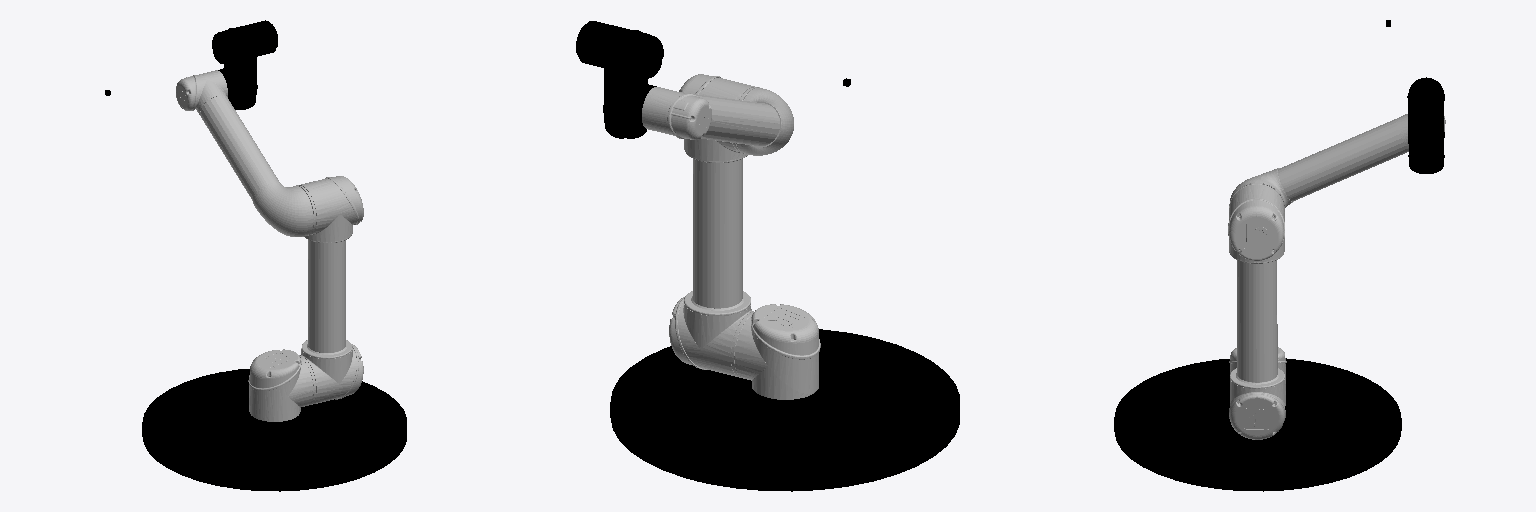
URDF robot description (ur5v9):
<?xml version="1.0" encoding="utf-8"?>
<!-- This URDF was automatically created by SolidWorks to URDF Exporter! Originally created by [author] ([email redacted]) 
     Commit Version: 1.6.0-4-g7f85cfe  Build Version: 1.6.7995.38578
     For more information, please see http://wiki.ros.org/sw_urdf_exporter -->
<robot
  name="ur5v9">


  
  <link name="dummy" />
    <joint name="dummy_joint" type="fixed">
        <parent link="dummy" />
        <child link="base_link" />
        <origin rpy="0.0 0.0 0.0" xyz="0.0 0.0 0.0" />
    </joint>  
  
  
  <link
    name="base_link">
    <inertial>
      <origin
        xyz="-2.05969404822315E-05 -2.06280333782269E-05 0.0167711263216263"
        rpy="0 0 0" />
      <mass
        value="8.98661077324618" />
      <inertia
        ixx="0.192265704645512"
        ixy="1.73939932595085E-05"
        ixz="5.87215103310644E-06"
        iyy="0.192265730493601"
        iyz="5.86862240706204E-06"
        izz="0.382774608566063" />
    </inertial>
    <visual>
      <origin
        xyz="0 0 0"
        rpy="0 0 0" />
      <geometry>
        <mesh
          filename="package://ur5v9/meshes/base_link.STL" />
      </geometry>
      <material
        name="">
        <color
          rgba="0 0 0 1" />
      </material>
    </visual>
    <collision>
      <origin
        xyz="0 0 0"
        rpy="0 0 0" />
      <geometry>
        <mesh
          filename="package://ur5v9/meshes/base_link.STL" />
      </geometry>
    </collision>
  </link>
  <link
    name="link1">
    <inertial>
      <origin
        xyz="0.0164382632854022 -0.000118063508818693 0.118957744576046"
        rpy="0 0 0" />
      <mass
        value="1.57302765066952" />
      <inertia
        ixx="0.00253798428346363"
        ixy="1.77001016063777E-07"
        ixz="-0.000319311655397667"
        iyy="0.00262071034934352"
        iyz="2.28534826137414E-06"
        izz="0.00282982949835273" />
    </inertial>
    <visual>
      <origin
        xyz="0 0 0"
        rpy="0 0 0" />
      <geometry>
        <mesh
          filename="package://ur5v9/meshes/link1.STL" />
      </geometry>
      <material
        name="">
        <color
          rgba="0.752941176470588 0.752941176470588 0.752941176470588 1" />
      </material>
    </visual>
    <collision>
      <origin
        xyz="0 0 0"
        rpy="0 0 0" />
      <geometry>
        <mesh
          filename="package://ur5v9/meshes/link1.STL" />
      </geometry>
    </collision>
  </link>
  <joint
    name="link1_joint"
    type="revolute">
    <origin
      xyz="0 0 0"
      rpy="0 0 0" />
    <parent
      link="base_link" />
    <child
      link="link1" />
    <axis
      xyz="0 0 1" />
    <dynamics damping = '10.0' friction = '10'/>
    <limit
      lower="-3.14"
      upper="3.14"
      effort="100"
      velocity="10" />
  </joint>
  <link
    name="link2">
    <inertial>
      <origin
        xyz="-0.000618738231964481 -0.215988492477967 -0.0579664039252074"
        rpy="0 0 0" />
      <mass
        value="4.65714361543196" />
      <inertia
        ixx="0.0213091248040122"
        ixy="-4.37484723781116E-05"
        ixz="-2.25575766818031E-07"
        iyy="0.00634989913174648"
        iyz="5.84926202019695E-10"
        izz="0.0217892017192679" />
    </inertial>
    <visual>
      <origin
        xyz="0 0 0"
        rpy="0 0 0" />
      <geometry>
        <mesh
          filename="package://ur5v9/meshes/link2.STL" />
      </geometry>
      <material
        name="">
        <color
          rgba="0.75294117647058338 0.752941176470588 0.752941176470588 1" />
      </material>
    </visual>
    <collision>
      <origin
        xyz="0 0 0"
        rpy="0 0 0" />
      <geometry>
        <mesh
          filename="package://ur5v9/meshes/link2.STL" />
      </geometry>
    </collision>
  </link>
  <joint
    name="link2_joint"
    type="revolute">
    <origin
      xyz="0.0752978432534634 -0.000569913481904027 0.120000000000001"
      rpy="-1.5707963267949 0 1.56322768239745" />
    <parent
      link="link1" />
    <child
      link="link2" />
    <axis
      xyz="0 0 -1" />
    <dynamics damping = '0.001' friction = '10'/>
    <limit
      lower="-1.57"
      upper="1.57"
      effort="100"
      velocity="10" />
  </joint>
  <link
    name="link3">
    <inertial>
      <origin
        xyz="-0.156997211048608 0.0747886310324495 0.0553273492048371"
        rpy="0 0 0" />
      <mass
        value="2.68543312803543" />
      <inertia
        ixx="0.00398264281342387"
        ixy="0.00365552050637498"
        ixz="0.000101998843070534"
        iyy="0.00991353441704598"
        iyz="-4.82940476005933E-05"
        izz="0.0118077358733545" />
    </inertial>
    <visual>
      <origin
        xyz="0 0 0"
        rpy="0 0 0" />
      <geometry>
        <mesh
          filename="package://ur5v9/meshes/link3.STL" />
      </geometry>
      <material
        name="">
        <color
          rgba="0.752941176470588 0.752941176470588 0.752941176470588 1" />
      </material>
    </visual>
    <collision>
      <origin
        xyz="0 0 0"
        rpy="0 0 0" />
      <geometry>
        <mesh
          filename="package://ur5v9/meshes/link3.STL" />
      </geometry>33
    </collision>
  </link>
  <joint
    name="link3_joint"
    type="revolute">
    <origin
      xyz="-0.00121733036134979 -0.424998256592647 -0.000799999999999898"
      rpy="0 0 3.14159265358978" />
    <parent
      link="link2" />
    <child
      link="link3" />
    <axis
      xyz="0 0 -1" />
    <dynamics damping = '10.0' friction = '10'/>
    <limit
      lower="-3.14"
      upper="3.14"
      effort="100"
      velocity="10" />
  </joint>
  <link
    name="link4">
    <inertial>
      <origin
        xyz="5.22591162666064E-06 0.0037529806550608 -0.0421992221639455"
        rpy="0 0 0" />
      <mass
        value="0.5408299031136" />
      <inertia
        ixx="0.000387002576577117"
        ixy="4.0202670860029E-07"
        ixz="2.05438675917759E-07"
        iyy="0.000411402359614443"
        iyz="-4.27858133885191E-05"
        izz="0.00036744118439019" />
    </inertial>
    <visual>
      <origin
        xyz="0 0 0"
        rpy="0 0 0" />
      <geometry>
        <mesh
          filename="package://ur5v9/meshes/link4.STL" />
      </geometry>
      <material
        name="">
        <color
          rgba="0 0 0 1" />
      </material>
    </visual>
    <collision>
      <origin
        xyz="0 0 0"
        rpy="0 0 0" />
      <geometry>
        <mesh
          filename="package://ur5v9/meshes/link4.STL" />
      </geometry>
    </collision>
  </link>
  <joint
    name="link4_joint"
    type="revolute">
    <origin
      xyz="-0.354119933459064 0.1686983557328 0.0194999999999931"
      rpy="0 0 3.14159265358921" />
    <parent
      link="link3" />
    <child
      link="link4" />
    <axis
      xyz="0 0 1" />
    <dynamics damping = '10.0' friction = '10'/>
    <limit
      lower="-3.14"
      upper="3.14"
      effort="100"
      velocity="10" />
  </joint>
  <link
    name="link5">
    <inertial>
      <origin
        xyz="-0.00375326631970958 -1.48376995789956E-06 0.0421992224037311"
        rpy="0 0 0" />
      <mass
        value="0.54082989435968" />
      <inertia
        ixx="0.000411402233621775"
        ixy="3.77654190018168E-07"
        ixz="-4.27835256341159E-05"
        iyy="0.000387002682073259"
        iyz="2.51340814249355E-07"
        izz="0.000367441189038465" />
    </inertial>
    <visual>
      <origin
        xyz="0 0 0"
        rpy="0 0 0" />
      <geometry>
        <mesh
          filename="package://ur5v9/meshes/link5.STL" />
      </geometry>
      <material
        name="">
        <color
          rgba="0 0 0 1" />
      </material>
    </visual>
    <collision>
      <origin
        xyz="0 0 0"
        rpy="0 0 0" />
      <geometry>
        <mesh
          filename="package://ur5v9/meshes/link5.STL" />
      </geometry>
    </collision>
  </link>
  <joint
    name="link5_joint"
    type="revolute">
    <origin
      xyz="-0.00019758013585236 -0.0415495302270672 -0.0533699999999987"
      rpy="1.5712610655884 1.57079630572147 -0.0042905265232779" />
    <parent
      link="link4" />
    <child
      link="link5" />
    <axis
      xyz="0 0 -1" />
    <dynamics damping = '10.0' friction = '10'/>
    <limit
      lower="-3.14"
      upper="3.14"
      effort="100"
      velocity="10" />
  </joint>
  <link
    name="link6">
    <inertial>
      <origin
        xyz="-0.000143127995522185 -3.82872472837192E-07 -0.0110566479654212"
        rpy="0 0 0" />
      <mass
        value="0.16482339121176" />
      <inertia
        ixx="6.87597310113217E-05"
        ixy="1.54104192474614E-09"
        ixz="-1.0559355094082E-07"
        iyy="6.80603809491783E-05"
        iyz="-2.82690789775775E-10"
        izz="0.000116042609389565" />
    </inertial>
    <visual>
      <origin
        xyz="0 0 0"
        rpy="0 0 0" />
      <geometry>
        <mesh
          filename="package://ur5v9/meshes/link6.STL" />
      </geometry>
      <material
        name="">
        <color
          rgba="0 0 0 1" />
      </material>
    </visual>
    <collision>
      <origin
        xyz="0 0 0"
        rpy="0 0 0" />
      <geometry>
        <mesh
          filename="package://ur5v9/meshes/link6.STL" />
      </geometry>
    </collision>
  </link>
  <joint
    name="link6_joint"
    type="revolute">
    <origin
      xyz="0.048669664820819 0.000180627320948923 0.0533699999999981"
      rpy="1.5707963267949 -0.00475522310066879 -1.56708505217814" />
    <parent
      link="link5" />
    <child
      link="link6" />
    <axis
      xyz="0 0 1" />
    <dynamics damping = '10.0' friction = '10'/>
    <limit
      lower="-3.14"
      upper="3.14"
      effort="100"
      velocity="10" />
  </joint>

  <link name="left_end_effector">
    <gravity>0</gravity>
    <visual>
      <origin rpy="0 0 0" xyz="0 0 0"/>
      <geometry>
        <box size="0.01 0.01 0.01"/>
      </geometry>
      <material name="transparent">
        <color rgba="0 0 0 0"/>
      </material>
    </visual>
    <inertial>
      <origin rpy="0 0 0" xyz="0.000000 0.000000 0.000000"/>
      <mass value="0.0001"/>
      <inertia ixx="1e-08" ixy="0" ixz="0" iyy="1e-08" iyz="0" izz="1e-08"/>
    </inertial>
  </link>
  <joint name="left_end_joint" type="revolute">
    <parent link="link6" />
    <child link="left_end_effector" />
    <origin rpy="0 0 0" xyz="0.08 0 .44" />
    <limit effort="30" velocity="1.0" lower="0" upper="0" />
  </joint>
  <gazebo>
    <plugin name="gazebo_ros_vacuum_gripper" filename="libgazebo_ros_vacuum_gripper.so">
      <robotNamespace>/robot/left_vacuum_gripper</robotNamespace>
      <bodyName>left_end_effector</bodyName>
      <topicName>grasping</topicName>
	    <maxForce>150</maxForce>
      <maxDistance>0.05</maxDistance>
      <minDistance>0.01</minDistance>
    </plugin>
  </gazebo>



  <joint name="camera_joint" type="fixed">
    <axis xyz="0 1 0" />
    <origin xyz="-0.02 0.0 0.055" rpy="0 0 0"/>
    <parent link="link6"/>
    <child link="camera_link"/>
  </joint>

  <!-- Camera -->
  <link name="camera_link">
    <collision>
      <origin xyz="0 0 0" rpy="0 0 0"/>
      <geometry>
	      <box size="0.0003 0.0003 0.0003"/>
      </geometry>
    </collision>
    <visual>
      <origin xyz="0 0 0" rpy="0 0 0"/>
      <geometry>
	      <box size="0.0003 0.0003 0.0003"/>
      </geometry>
      <material name="green"/>
    </visual>

    <inertial>
      <mass value="1e-5" />
      <origin xyz="0 0 0" rpy="0 0 0"/>
      <inertia ixx="1e-6" ixy="0" ixz="0" iyy="1e-6" iyz="0" izz="1e-6" />
    </inertial>
  </link>

  <!-- generate an optical frame http://www.ros.org/reps/rep-0103.html#suffix-frames
      so that ros and opencv can operate on the camera frame correctly -->
  <joint name="camera_optical_joint" type="fixed">
    <!-- these values have to be these values otherwise the gazebo camera image
        won't be aligned properly with the frame it is supposedly originating from -->
    <origin xyz="0 0 0" rpy="-1.57 0 -1.57"/>
    <parent link="camera_link"/>
    <child link="camera_link_optical"/>
  </joint>

  <link name="camera_link_optical">
  </link>




  <transmission name="trans_link1_joint">
      <type>transmission_interface/SimpleTransmission</type>
      <joint name="link1_joint">
          <hardwareInterface>hardware_interface/PositionJointInterface</hardwareInterface>
      </joint>
      <actuator name="link1_joint_motor">
          <hardwareInterface>hardware_interface/PositionJointInterface</hardwareInterface>
          <mechanicalReduction>1</mechanicalReduction>
      </actuator>
  </transmission>

  <transmission name="trans_link2_joint">
      <type>transmission_interface/SimpleTransmission</type>
      <joint name="link2_joint">
          <hardwareInterface>hardware_interface/PositionJointInterface</hardwareInterface>
      </joint>
      <actuator name="link2_joint_motor">
          <hardwareInterface>hardware_interface/PositionJointInterface</hardwareInterface>
          <mechanicalReduction>1</mechanicalReduction>
      </actuator>
  </transmission>

  <transmission name="trans_link3_joint">
      <type>transmission_interface/SimpleTransmission</type>
      <joint name="link3_joint">
          <hardwareInterface>hardware_interface/PositionJointInterface</hardwareInterface>
      </joint>
      <actuator name="link3_joint_motor">
          <hardwareInterface>hardware_interface/PositionJointInterface</hardwareInterface>
          <mechanicalReduction>1</mechanicalReduction>
      </actuator>
  </transmission>
  <transmission name="trans_link4_joint">
      <type>transmission_interface/SimpleTransmission</type>
      <joint name="link4_joint">
          <hardwareInterface>hardware_interface/PositionJointInterface</hardwareInterface>
      </joint>
      <actuator name="link4_joint_motor">
          <hardwareInterface>hardware_interface/PositionJointInterface</hardwareInterface>
          <mechanicalReduction>1</mechanicalReduction>
      </actuator>
  </transmission>
  <transmission name="trans_link5_joint">
      <type>transmission_interface/SimpleTransmission</type>
      <joint name="link5_joint">
          <hardwareInterface>hardware_interface/PositionJointInterface</hardwareInterface>
      </joint>
      <actuator name="link5_joint_motor">
          <hardwareInterface>hardware_interface/PositionJointInterface</hardwareInterface>
          <mechanicalReduction>1</mechanicalReduction>
      </actuator>
  </transmission>

  <transmission name="trans_link6_joint">
      <type>transmission_interface/SimpleTransmission</type>
      <joint name="link6_joint">
          <hardwareInterface>hardware_interface/PositionJointInterface</hardwareInterface>
      </joint>
      <actuator name="link6_joint_motor">
          <hardwareInterface>hardware_interface/PositionJointInterface</hardwareInterface>
          <mechanicalReduction>1</mechanicalReduction>
      </actuator>
  </transmission>
  
  <transmission name="trans_left_end_joint">
      <type>transmission_interface/SimpleTransmission</type>
      <joint name="left_end_joint">
          <hardwareInterface>hardware_interface/PositionJointInterface</hardwareInterface>
      </joint>
      <actuator name="left_end_joint_motor">
          <hardwareInterface>hardware_interface/PositionJointInterface</hardwareInterface>
          <mechanicalReduction>1</mechanicalReduction>
      </actuator>
  </transmission>
</robot>

--- Facts derived from the render (not from the file) ---
Views: 3 orthographic renders of the robot side by side, from view 1: azimuth 30°, elevation 25°; view 2: azimuth 150°, elevation 25°; view 3: azimuth 270°, elevation 25°.
Model ur5v9 with 11 links and 10 joints (7 revolute, 3 fixed), rooted at dummy, posed all joints at 0.
Links seen in each view (by area): view 1: base_link, link2, link3, link1, link5, link4; view 2: base_link, link2, link3, link1, link5, link4, link6; view 3: base_link, link2, link3, link4, link6, link5.
Link boxes in pixels (bbox=[...]): base_link: bbox=[142, 369, 406, 491]; link2: bbox=[296, 176, 363, 404]; link3: bbox=[176, 70, 313, 236]; link1: bbox=[248, 349, 315, 421]; link5: bbox=[212, 24, 264, 71]; link4: bbox=[218, 66, 257, 109]; base_link: bbox=[610, 329, 959, 491]; link2: bbox=[669, 74, 759, 377]; link3: bbox=[642, 87, 793, 155]; link1: bbox=[731, 304, 820, 399]; link5: bbox=[594, 25, 663, 87]; link4: bbox=[603, 81, 656, 138]; link6: bbox=[576, 21, 608, 66]; base_link: bbox=[1114, 358, 1401, 491]; link2: bbox=[1228, 183, 1285, 439]; link3: bbox=[1229, 114, 1445, 207]; link4: bbox=[1408, 127, 1444, 173]; link6: bbox=[1408, 95, 1443, 133]; link5: bbox=[1407, 77, 1444, 132].
Bounding box of the posed robot: 0.5995 × 0.6922 × 0.848 m (x, y, z).
7 mesh visuals loaded from 7 distinct referenced files (7 binary STL).
